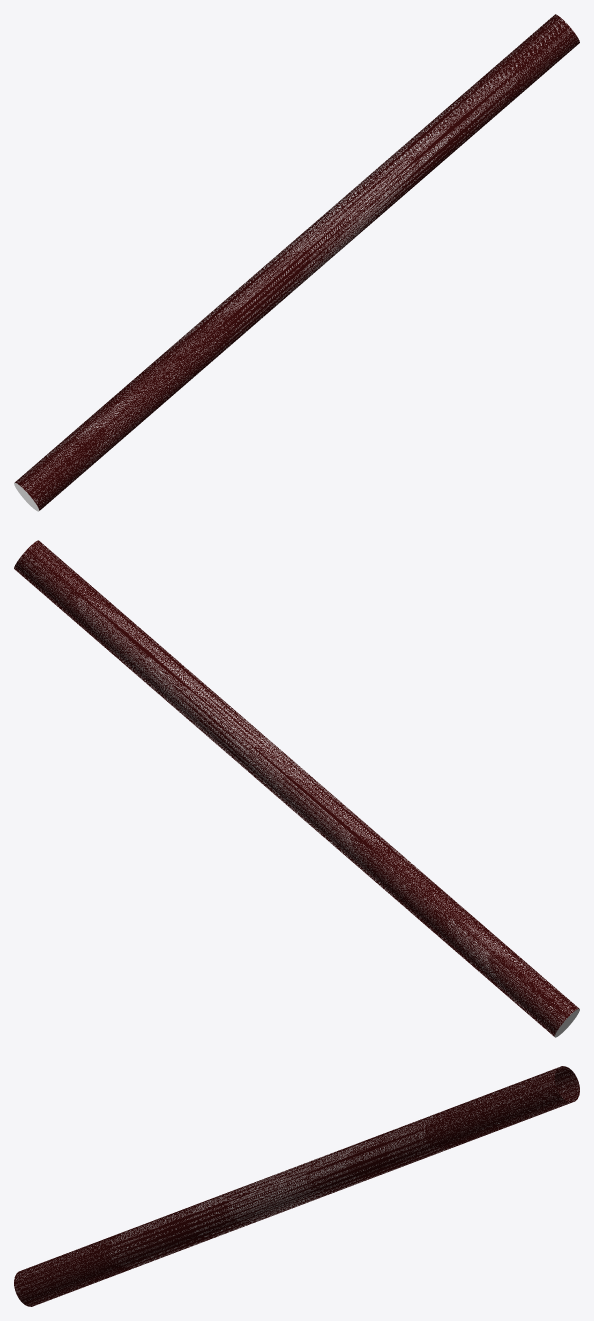
File: original-23.obj
The picture shows the model from 3 angles, top to bottom: view 1: azimuth 30°, elevation 25°; view 2: azimuth 150°, elevation 25°; view 3: azimuth 330°, elevation 25°; orthographic projection.
Visible parts, largest first — view 1: mesh5/mesh5-geometry#mesh5-geometry; view 2: mesh5/mesh5-geometry#mesh5-geometry; view 3: mesh5/mesh5-geometry#mesh5-geometry.
Boxes of the visible parts, x1=… form: mesh5/mesh5-geometry#mesh5-geometry: x1=14, y1=14, x2=579, y2=511; mesh5/mesh5-geometry#mesh5-geometry: x1=14, y1=540, x2=579, y2=1037; mesh5/mesh5-geometry#mesh5-geometry: x1=14, y1=1066, x2=579, y2=1306.
Size of the model in its own units: 0.5248 by 0.3292 by 0.031.
